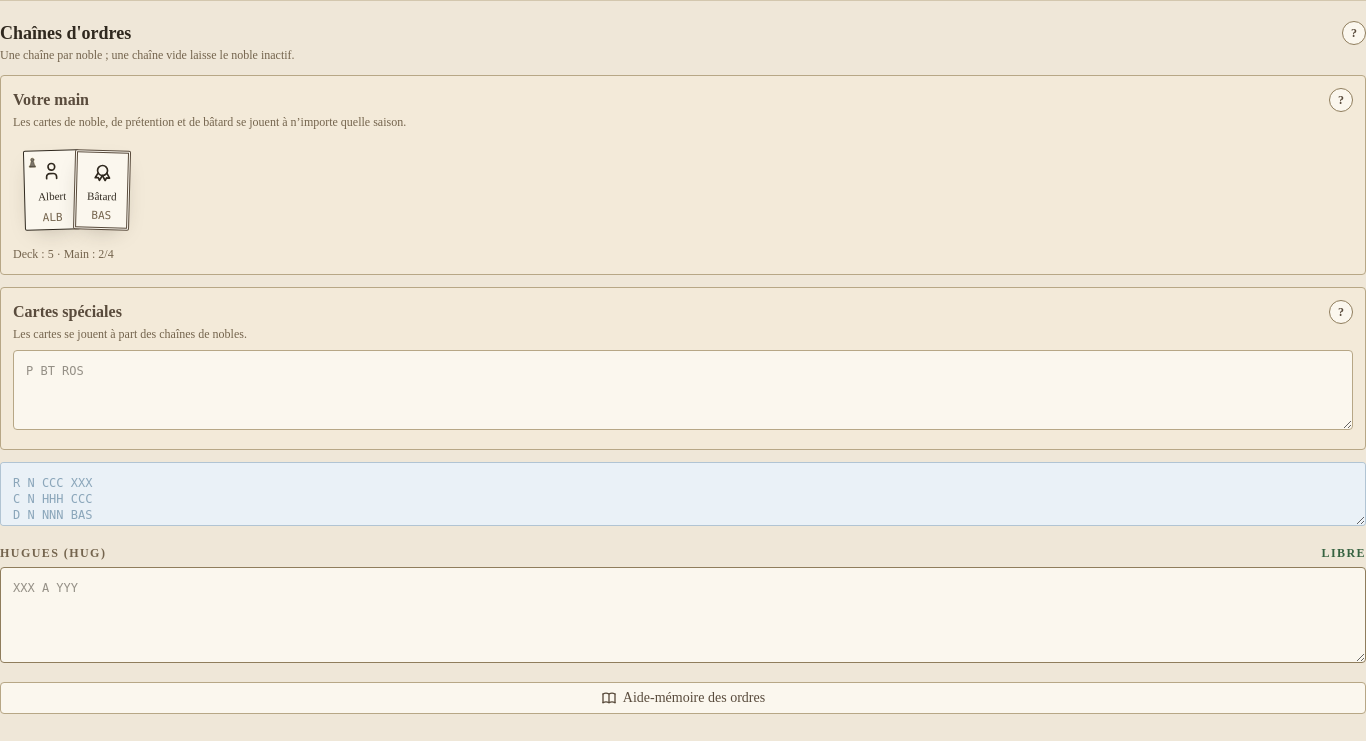
OrdersPanel noble deck (winter) › offers the card orders outside winter, without draw nor discard
The width and height of the screenshot is (1366, 741).
Click the button "Albert ALB" at (52,190), box [23,149,81,231]
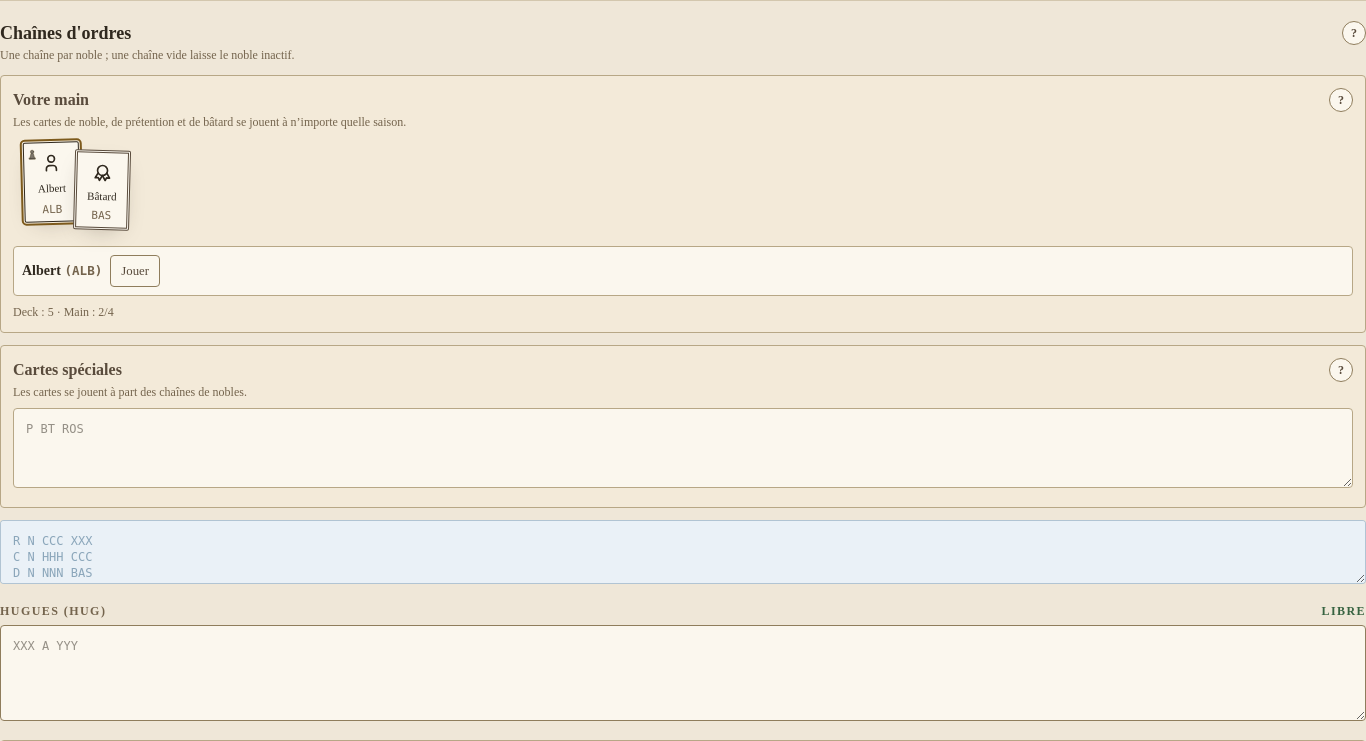
Expected: the button "Jouer" is shown, [110,255,160,287]
